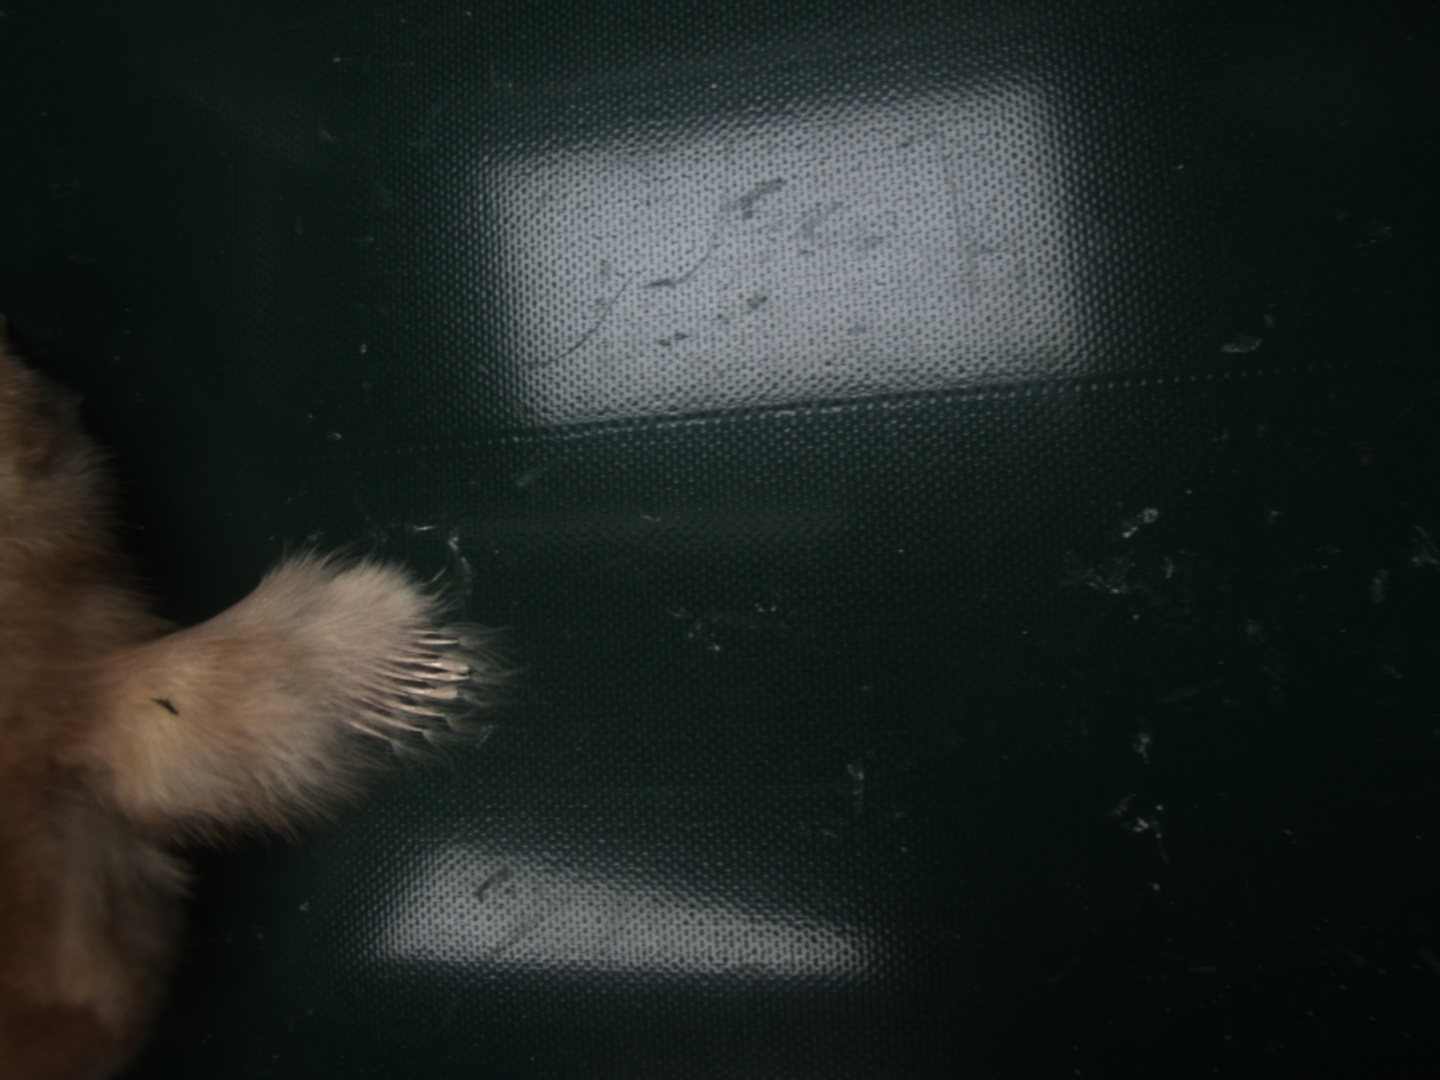female: (339, 625, 469, 746)
